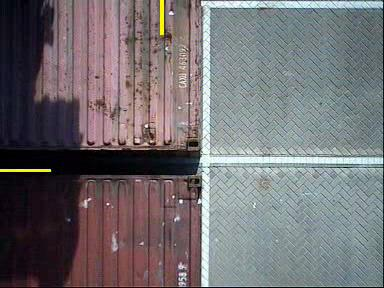groundmarker_2: (102, 118, 170, 150)
